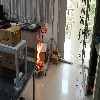fire: (36, 35, 43, 69)
